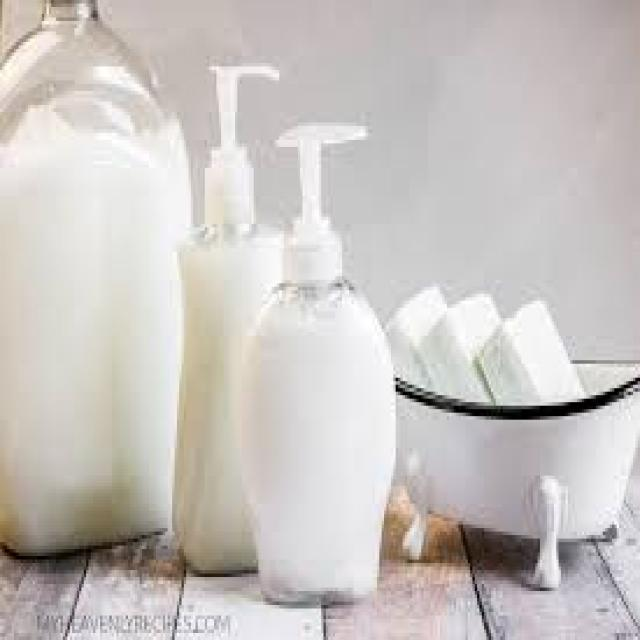liquid soap: (246, 117, 402, 612), (176, 58, 297, 577)
